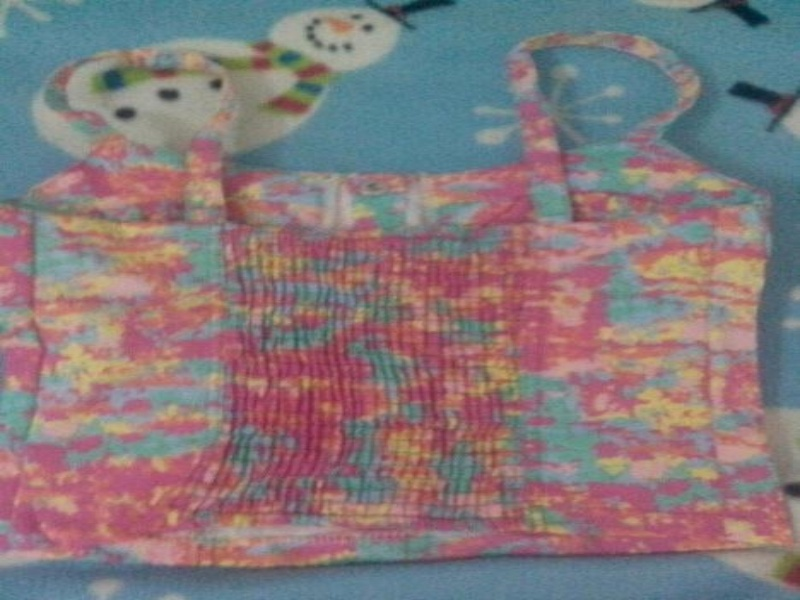sling: (2, 24, 793, 577)
